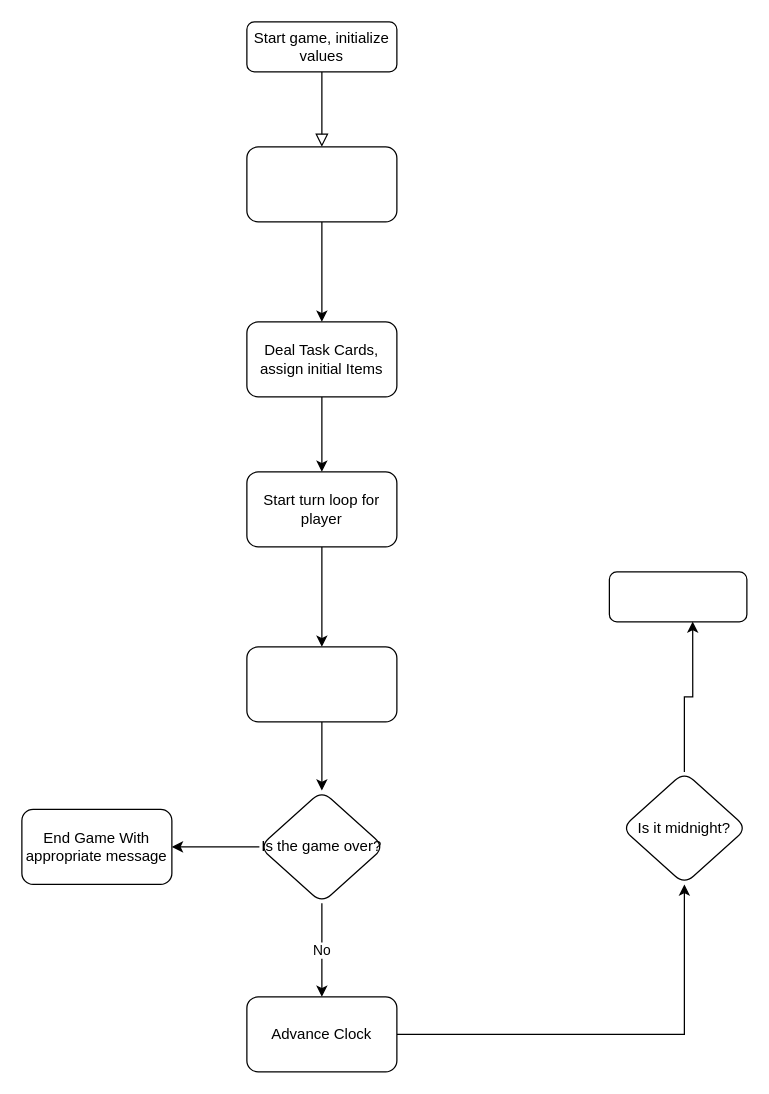
The diagram is 769 pixels wide and 1094 high, and some of its shapes have lost their labels. The centre of each missing label's shape, as x and y in pixels:
call add_doom: pixel 677 596
Call apply_outcome with relevant objects: pixel 321 684
Select Great Old One, Select Character: pixel 321 184
